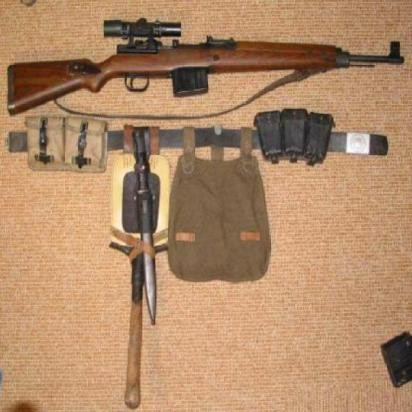Gun: (6, 15, 411, 110)
